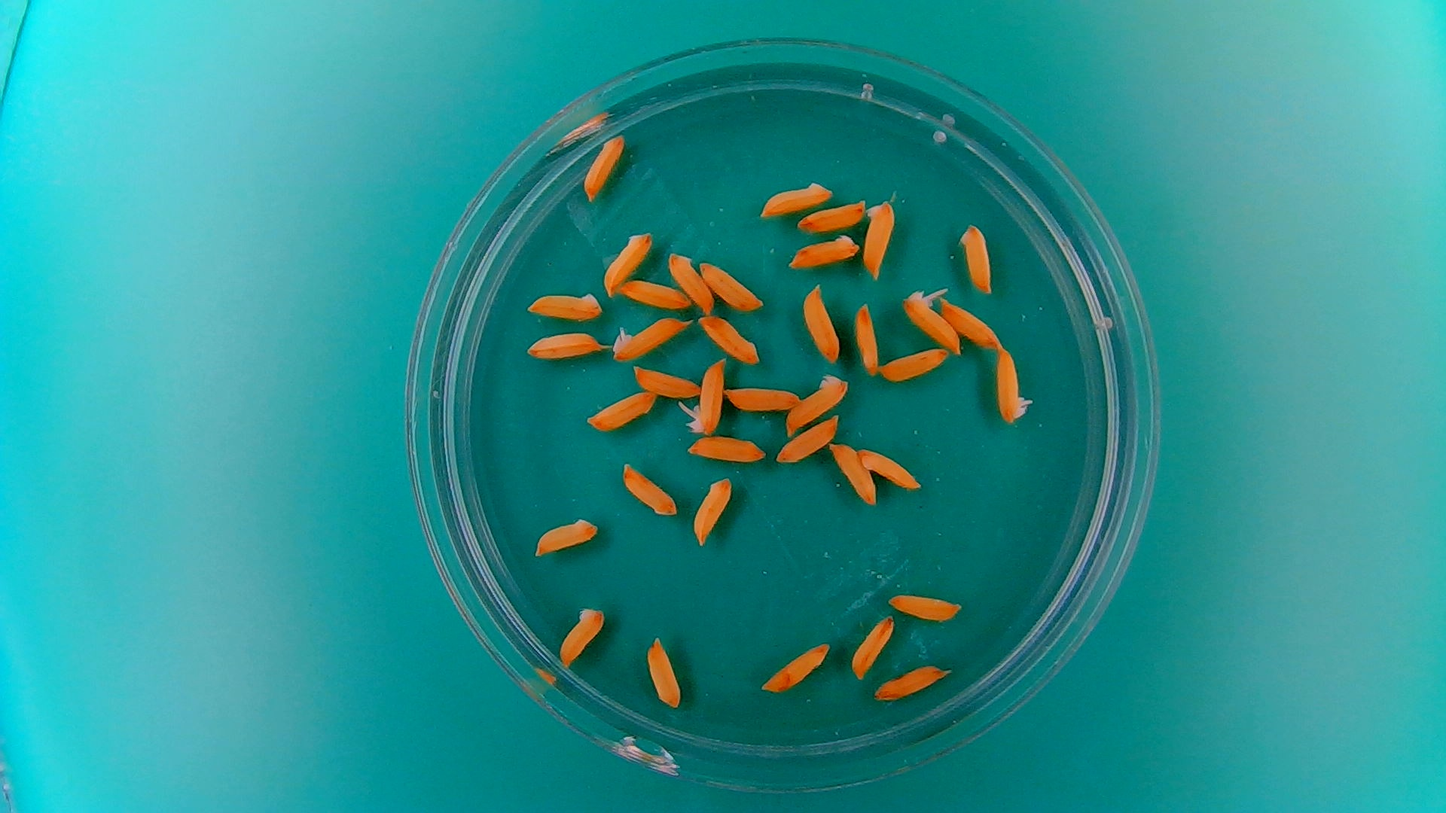no: (545, 596, 611, 671), (782, 371, 851, 435), (758, 639, 831, 693), (601, 229, 654, 296), (620, 461, 681, 519), (698, 260, 765, 312), (774, 412, 840, 464), (941, 297, 1002, 352), (800, 281, 840, 363), (581, 131, 627, 202), (697, 313, 761, 364), (848, 612, 895, 681), (873, 661, 952, 702), (828, 440, 877, 506), (854, 446, 924, 492), (690, 474, 734, 547), (756, 178, 835, 218), (585, 389, 657, 432), (861, 196, 897, 280), (667, 249, 713, 313), (644, 633, 682, 710), (532, 515, 600, 557), (786, 231, 861, 269), (885, 589, 965, 623), (958, 221, 994, 296), (878, 345, 950, 382), (686, 432, 766, 465), (615, 276, 692, 310), (798, 198, 868, 233), (525, 290, 604, 321), (631, 364, 702, 398), (525, 330, 604, 360), (723, 384, 802, 413), (853, 299, 880, 376)
yes: (899, 285, 962, 355), (609, 313, 691, 361), (681, 354, 727, 436), (995, 346, 1034, 427)
